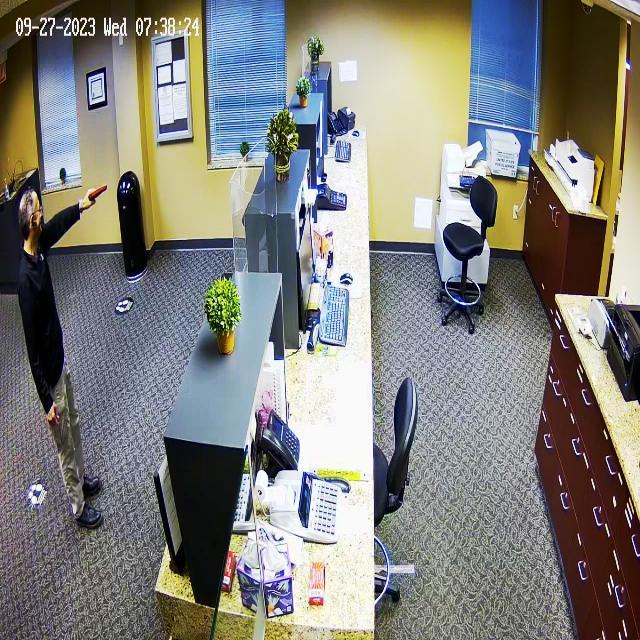Gun: (72, 176, 120, 217)
